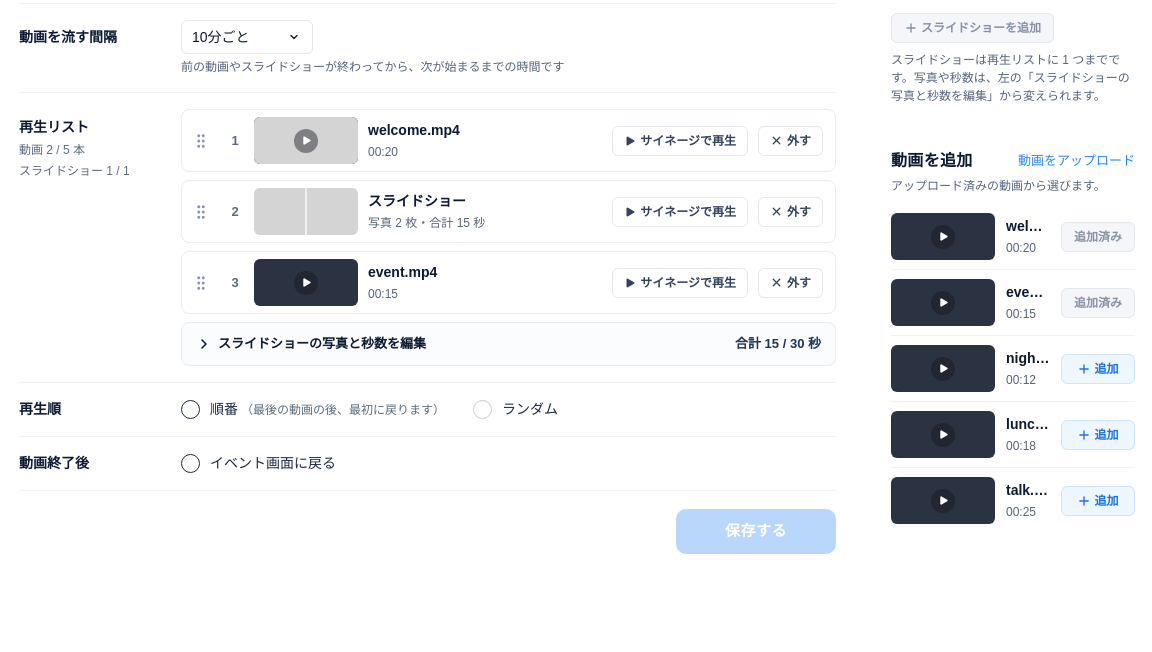
保存とサイネージで試す › 画面の並びのまま、動画は mediaId、スライドショーは写真と秒数（写真を選んだ欄だけ）を送る
Press ArrowUp in the button named "スライドショー の順番（上下キーで移動）", box [186,192,216,232]
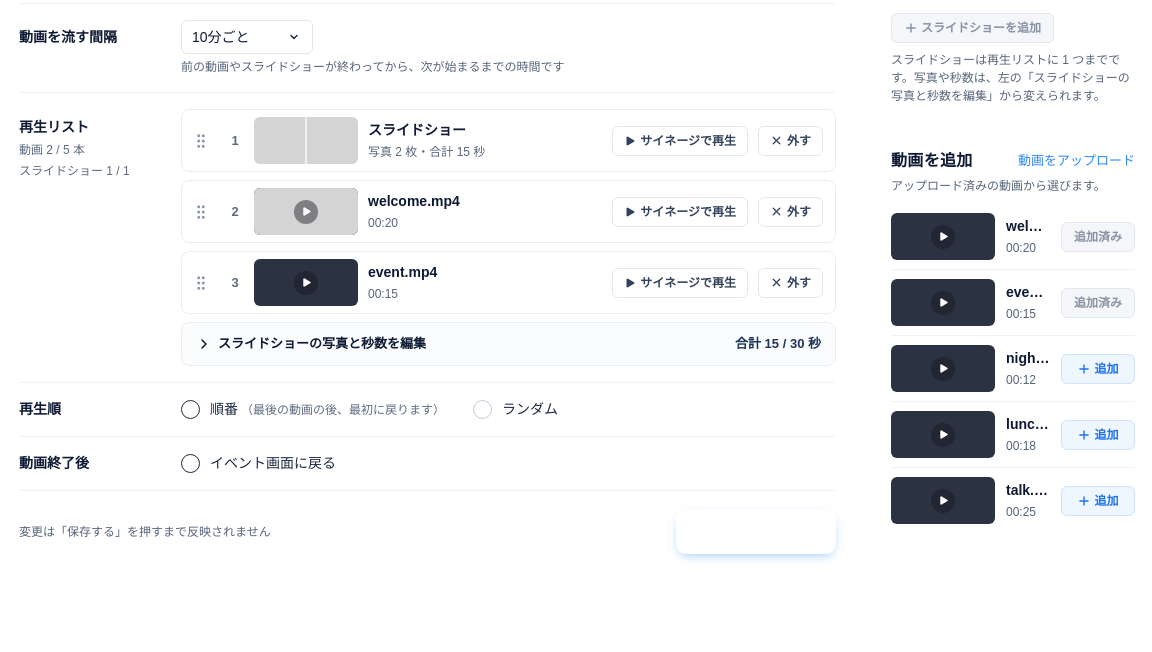
Click the button "スライドショーの写真と秒数を編集": (322, 344) [196,323,723,365]
(page scrolled)
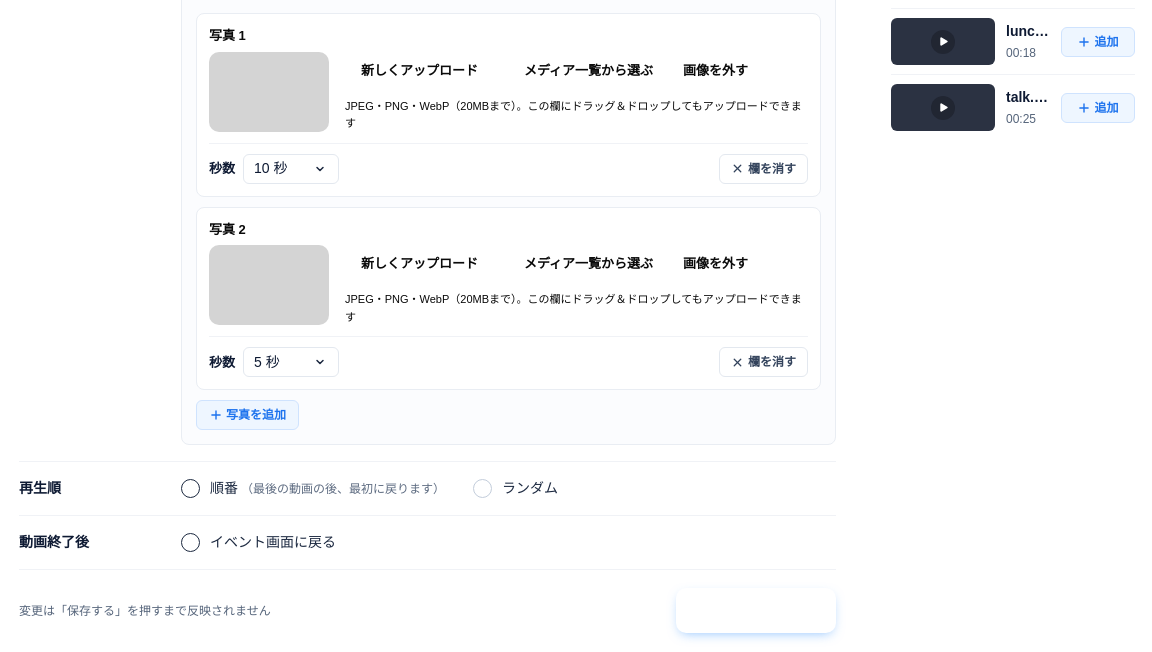
Select "7 秒" in the dropdown named "写真 2 の秒数": (291, 362) [243,347,339,377]
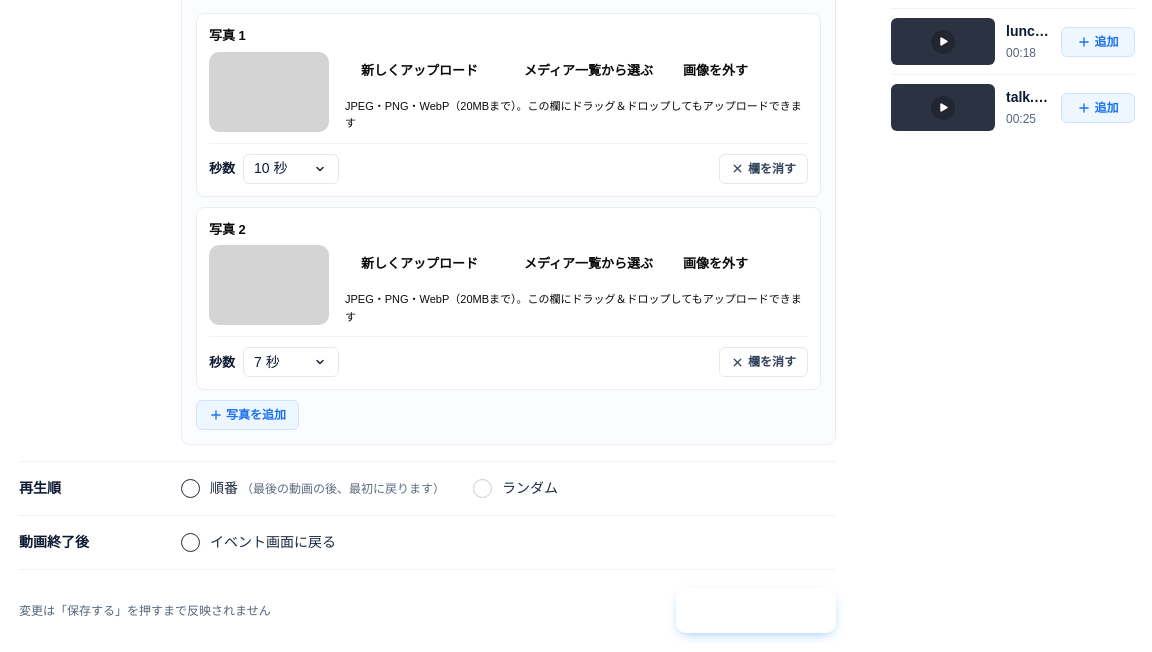
Click the button "写真を追加": (248, 415) [196,400,299,430]
(page scrolled)
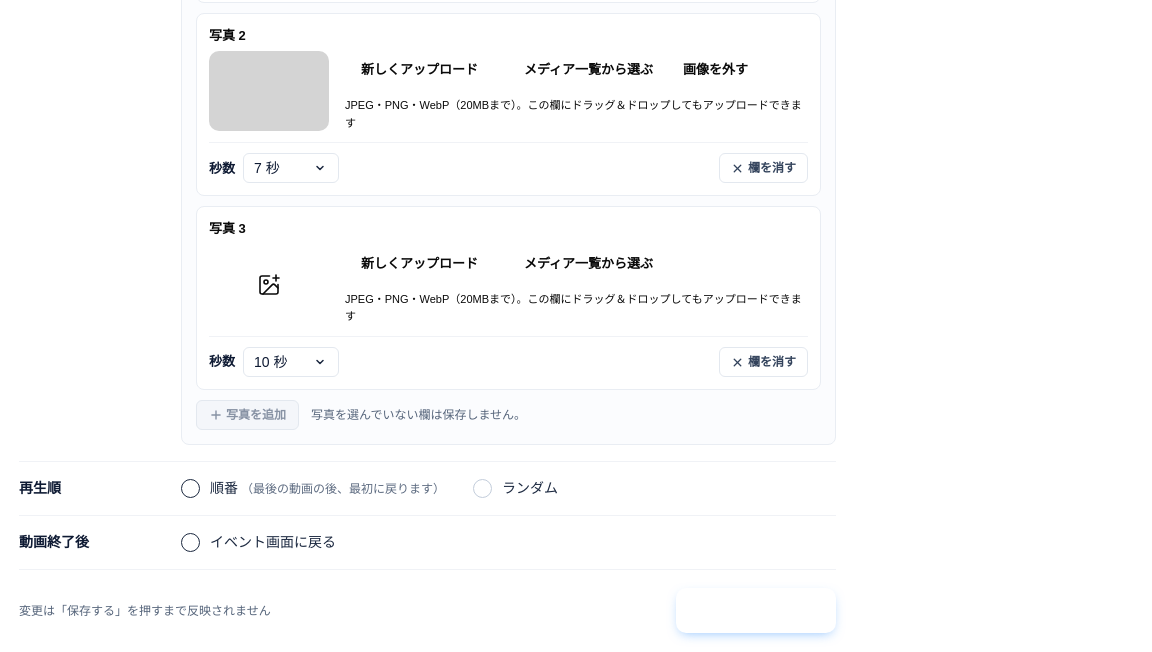
Click the button "保存する": (756, 611) [676,588,836,633]
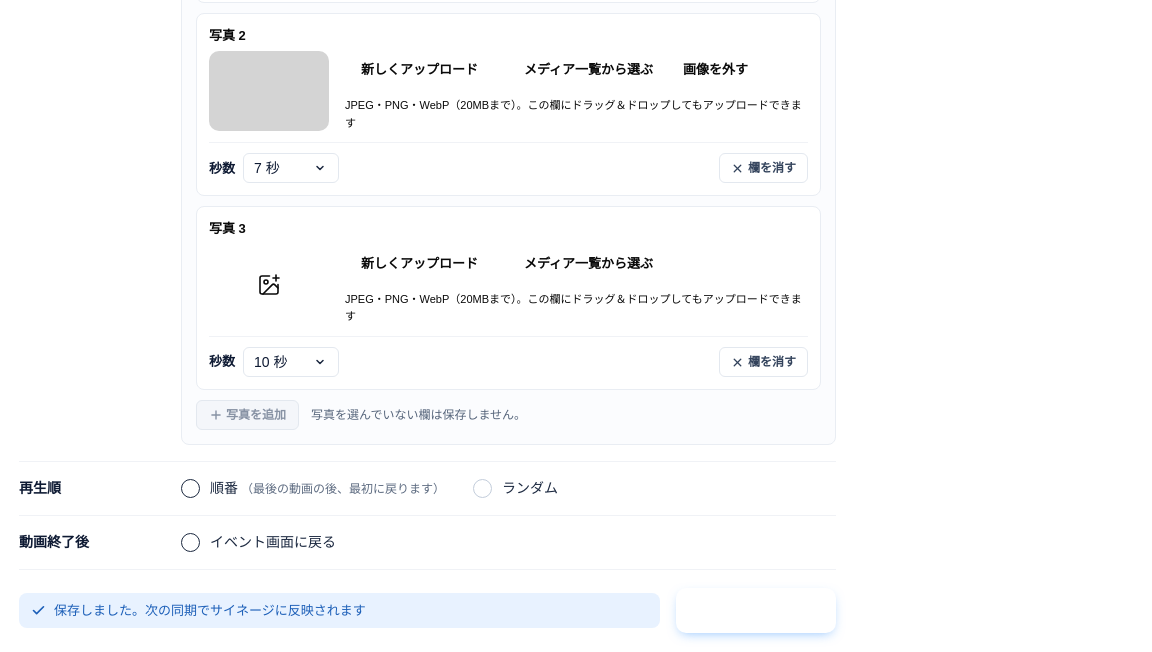
Expected: the text "保存しました。次の同期でサイネージに反映されます" is shown, [54,603,366,618]
